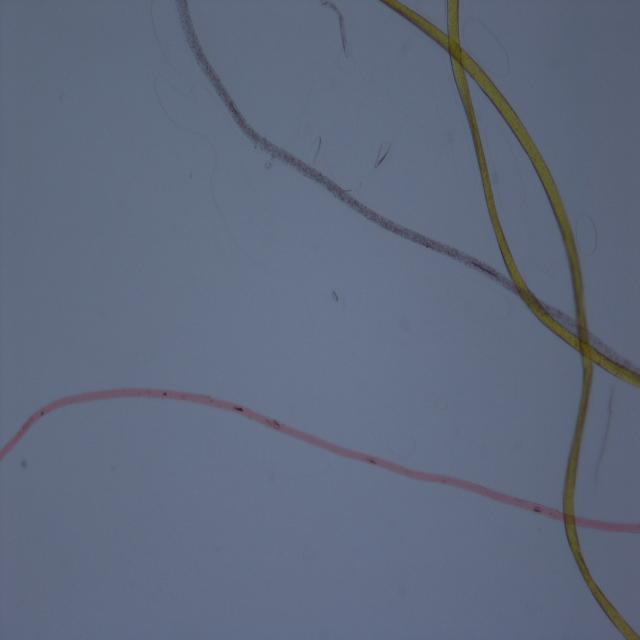Cellulose filter fibre: (318, 1, 358, 56)
Microfibre: (175, 0, 640, 376), (383, 0, 640, 639), (0, 383, 640, 538), (444, 0, 640, 386)
